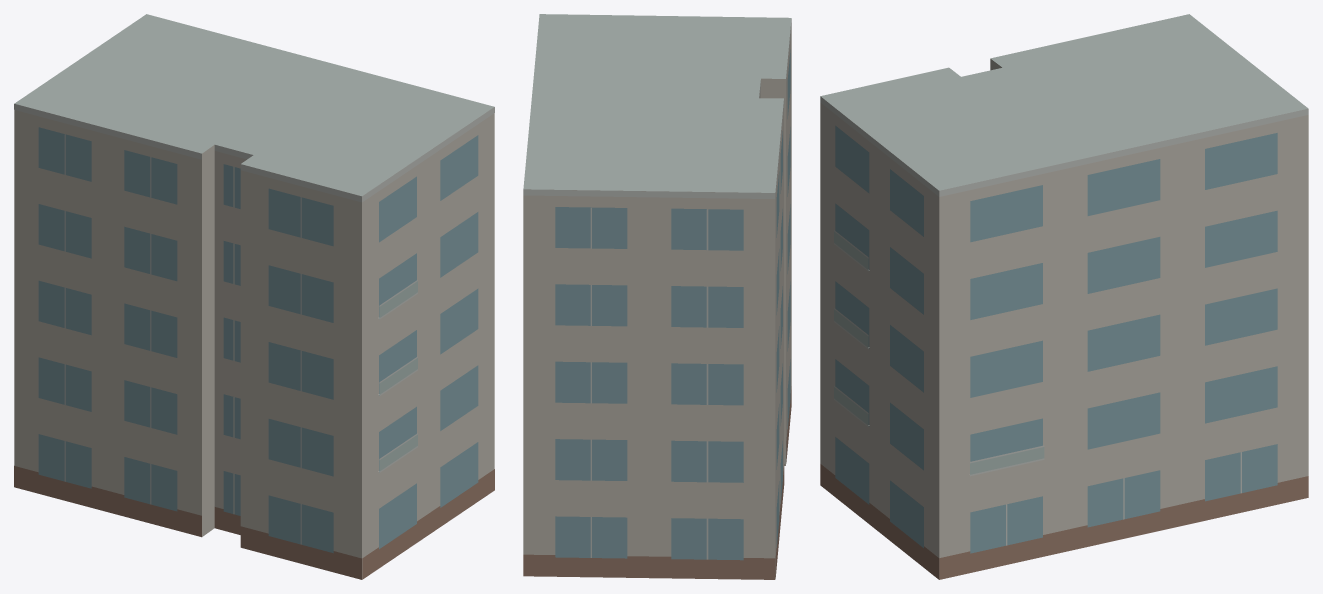
Rendered from survey-upis-32893699.glb.
3 views of the same model, side by side, from view 1: azimuth 30°, elevation 25°; view 2: azimuth 150°, elevation 25°; view 3: azimuth 270°, elevation 25° (orthographic).
Parts seen in each view (by area): view 1: survey-upis-32893699.tmp; view 2: survey-upis-32893699.tmp; view 3: survey-upis-32893699.tmp.
Boxes of the visible parts, x1,y1,x2,y2 form: survey-upis-32893699.tmp: (14,14,494,579); survey-upis-32893699.tmp: (523,14,791,579); survey-upis-32893699.tmp: (820,14,1308,579).
Size of the model in its own units: 14.92 by 15.3 by 17.41.
